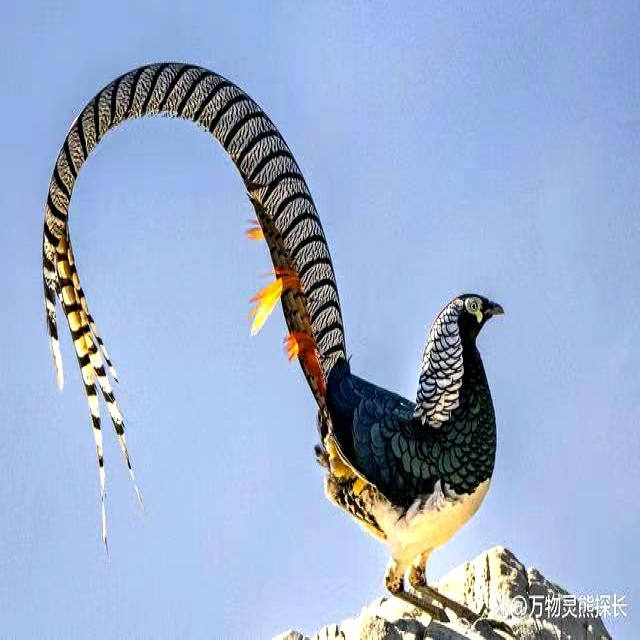Chrysolophus amherstiae: (43, 63, 345, 409)
